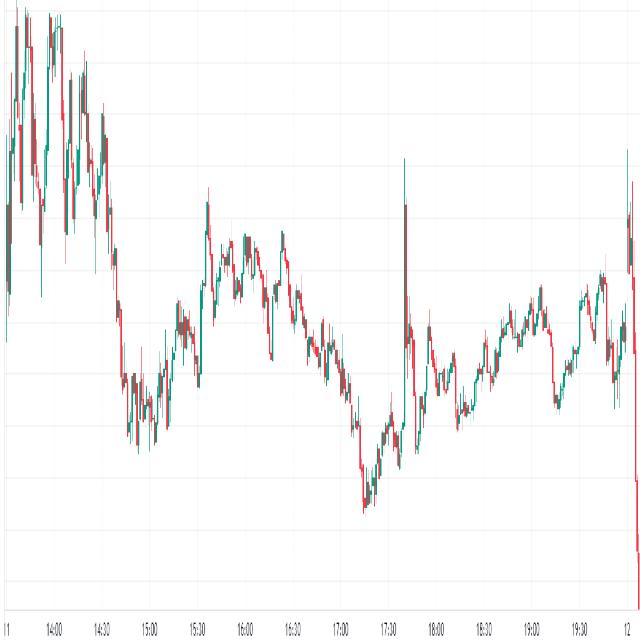Ascending-Triangle: (348, 272, 600, 566)
Rounding-Top: (141, 196, 364, 439)
